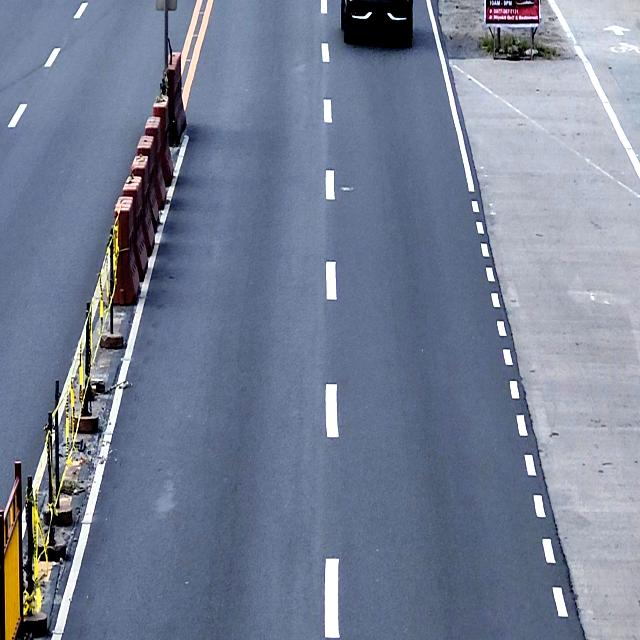Car: (341, 0, 413, 47)
